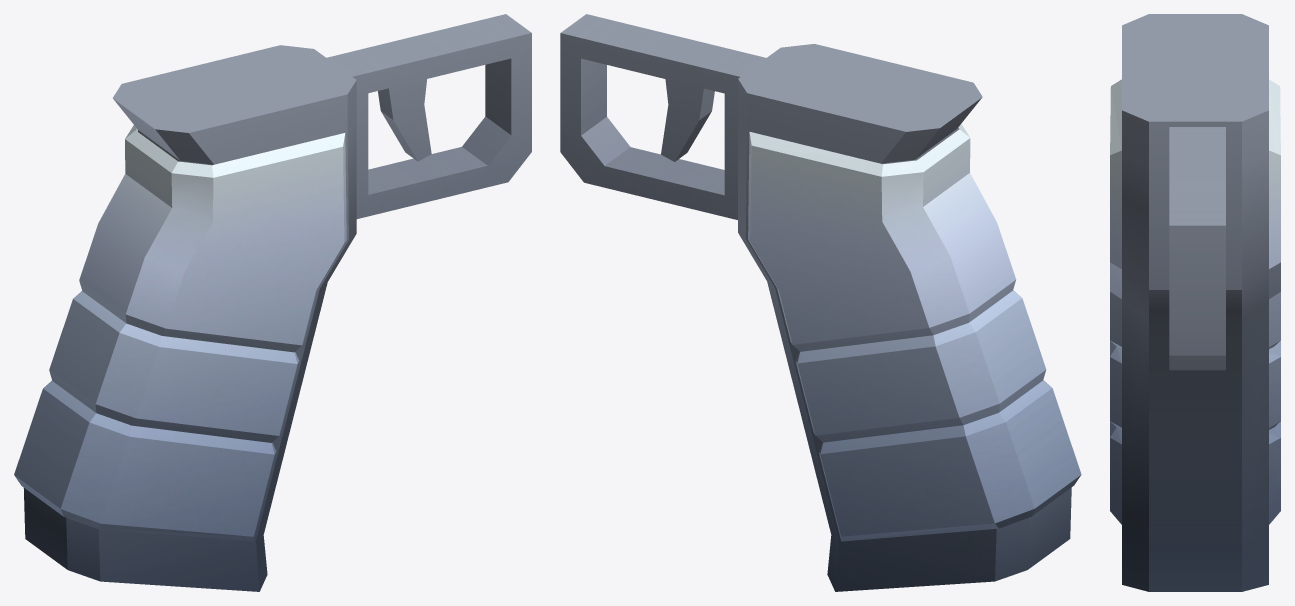
Rendered from Hand2.FBX.
The picture shows the model from 3 angles, left to right: view 1: azimuth 30°, elevation 25°; view 2: azimuth 150°, elevation 25°; view 3: azimuth 270°, elevation 25°; orthographic projection. The views are drawn at different scales.
Visible parts, largest first — view 1: Box002; view 2: Box002; view 3: Box002.
Part boxes in pixels (x1,y1,x2,y2): Box002: (14,14,531,591); Box002: (560,14,1081,591); Box002: (1110,14,1280,591).
Bounding box in the file's own units: 11.38 × 10.73 × 3.19.
